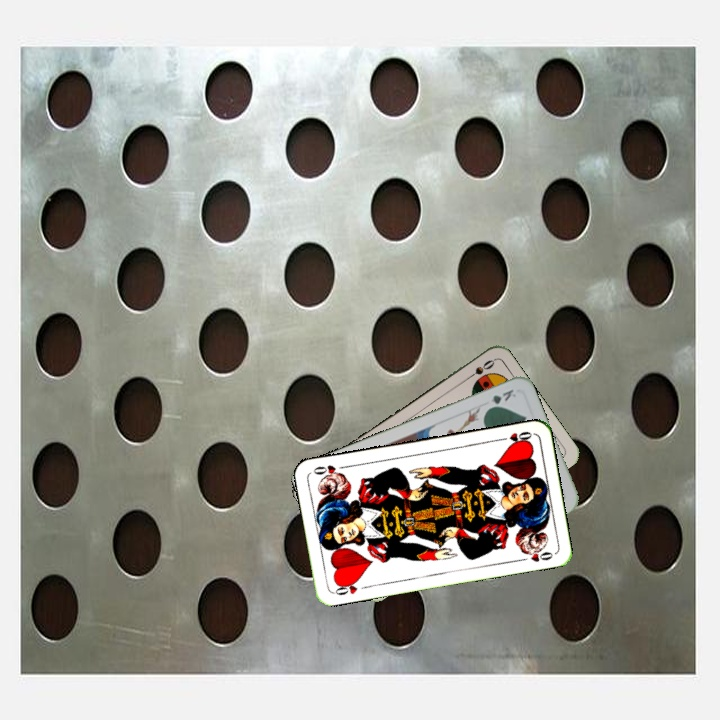GK: (482, 385, 519, 412)
HO: (495, 427, 535, 447), (330, 576, 360, 598)
SO: (461, 355, 497, 384)
